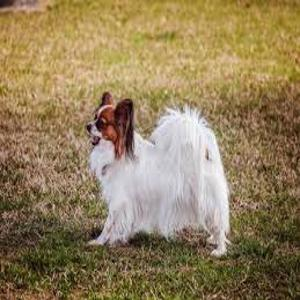yell: (85, 91, 228, 257)
